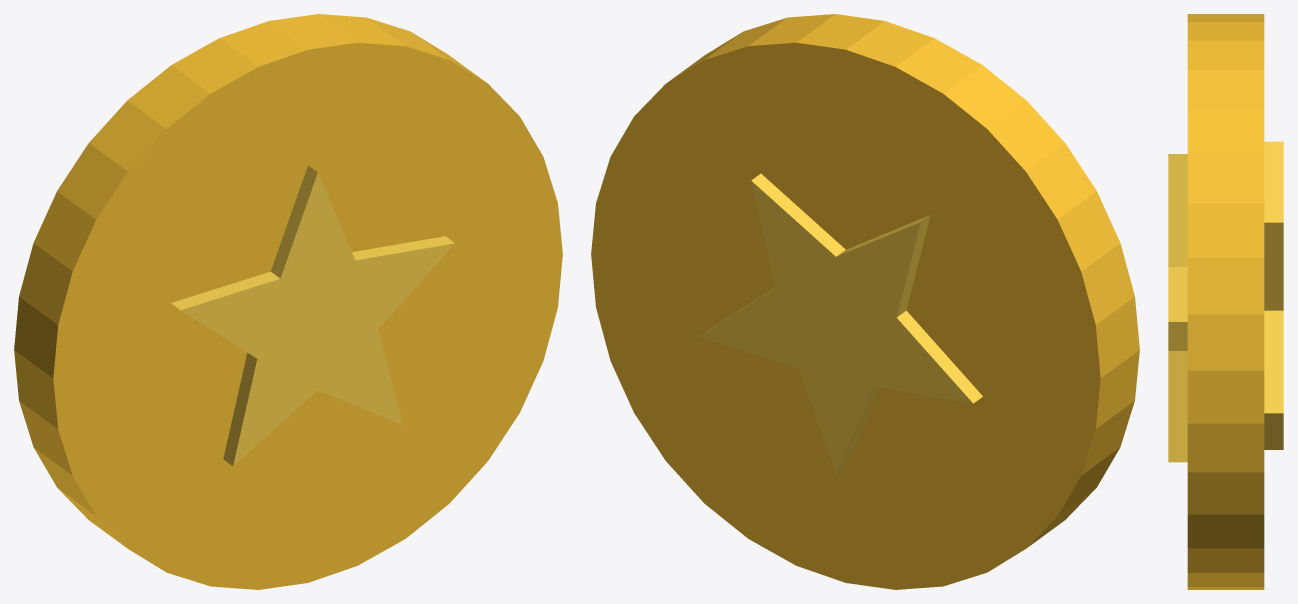
The model's file is Item_Coin.fbx.
3 renders of one model, left to right at view 1: azimuth 30°, elevation 25°; view 2: azimuth 150°, elevation 25°; view 3: azimuth 270°, elevation 25°, orthographic. The views are drawn at different scales.
Visible parts, largest first — view 1: Item_Coin; view 2: Item_Coin; view 3: Item_Coin.
Part boxes in pixels (x1,y1,x2,y2): Item_Coin: (14, 14, 562, 589); Item_Coin: (591, 14, 1139, 589); Item_Coin: (1168, 14, 1283, 589).
Bounding box in the file's own units: 0.6 × 0.6 × 0.12.
